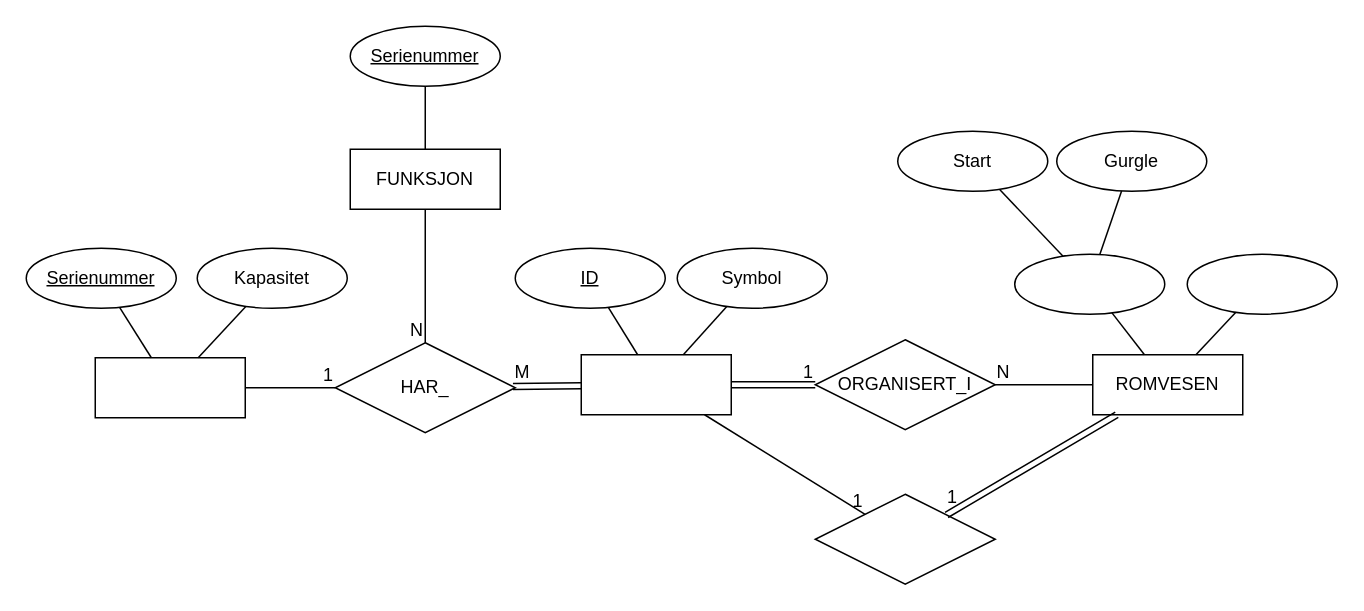
The diagram is 1364 pixels wide and 611 high, and some of its shapes have lost their labels. The centre of each missing label's shape, as x and y in pixels:
"GRUPPER" belongs at point 655,384.
"LEDER" belongs at point 904,538.
"Lyd" belongs at point 1089,283.
"Navn" belongs at point 1261,283.
"ROMSKIP" belongs at point 169,387.
